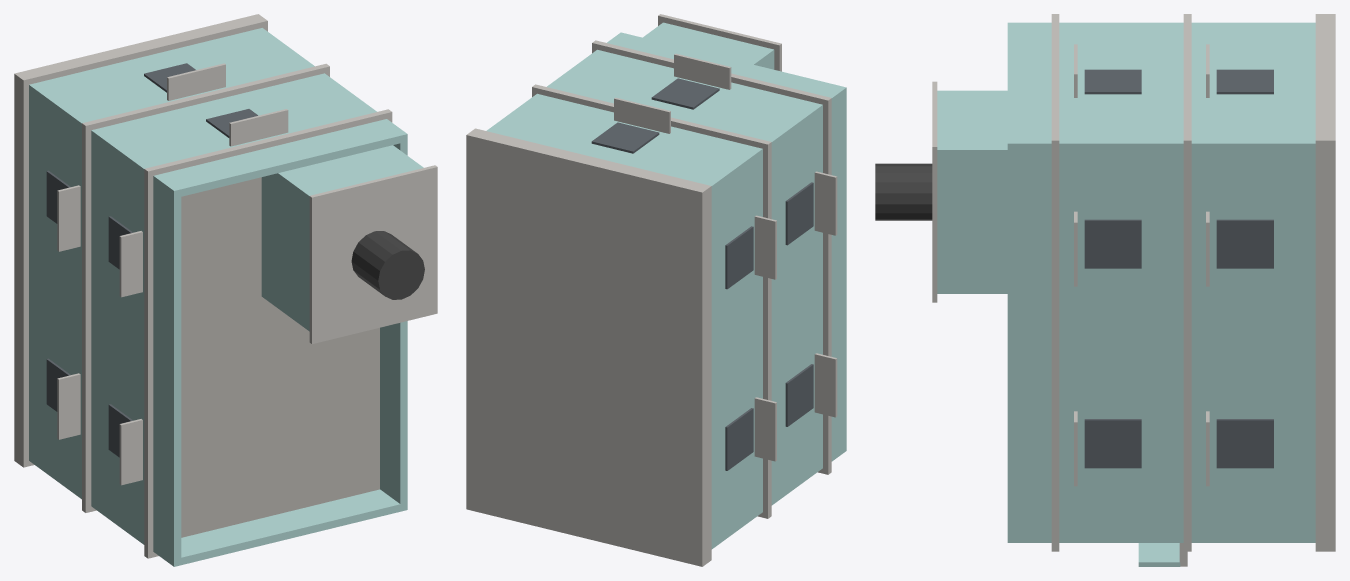
Rendered from rowhouse_2f_teal.glb.
3 renders of one model, left to right at view 1: azimuth 30°, elevation 25°; view 2: azimuth 150°, elevation 25°; view 3: azimuth 270°, elevation 25°, orthographic. The views are drawn at different scales.
Parts seen in each view (by area): view 1: teal, roof, concrete, glass, tank; view 2: concrete, teal, glass; view 3: teal, concrete, glass, tank.
Part boxes in pixels (x1=…): teal: x1=29, y1=28, x2=423, y2=566; roof: x1=181, y1=177, x2=379, y2=537; concrete: x1=14, y1=14, x2=437, y2=558; glass: x1=46, y1=63, x2=257, y2=457; tank: x1=351, y1=231, x2=424, y2=299; concrete: x1=466, y1=14, x2=837, y2=566; teal: x1=486, y1=22, x2=846, y2=549; glass: x1=591, y1=78, x2=813, y2=470; teal: x1=937, y1=22, x2=1315, y2=566; concrete: x1=932, y1=14, x2=1335, y2=566; glass: x1=1084, y1=69, x2=1273, y2=468; tank: x1=875, y1=163, x2=932, y2=220.
Bounding box in the file's own units: 7.7 × 11.81 × 10.45.
